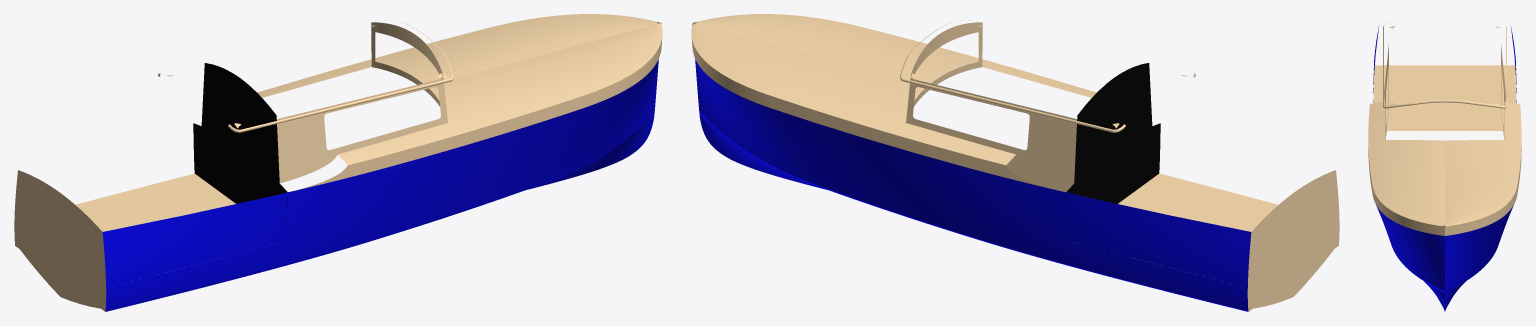
The model's file is 10m Launch.glb.
3 views of the same model, side by side, from view 1: azimuth 30°, elevation 25°; view 2: azimuth 150°, elevation 25°; view 3: azimuth 270°, elevation 25° (orthographic). The views are drawn at different scales.
Bounding box in the file's own units: 10 × 2.89 × 2.85.
